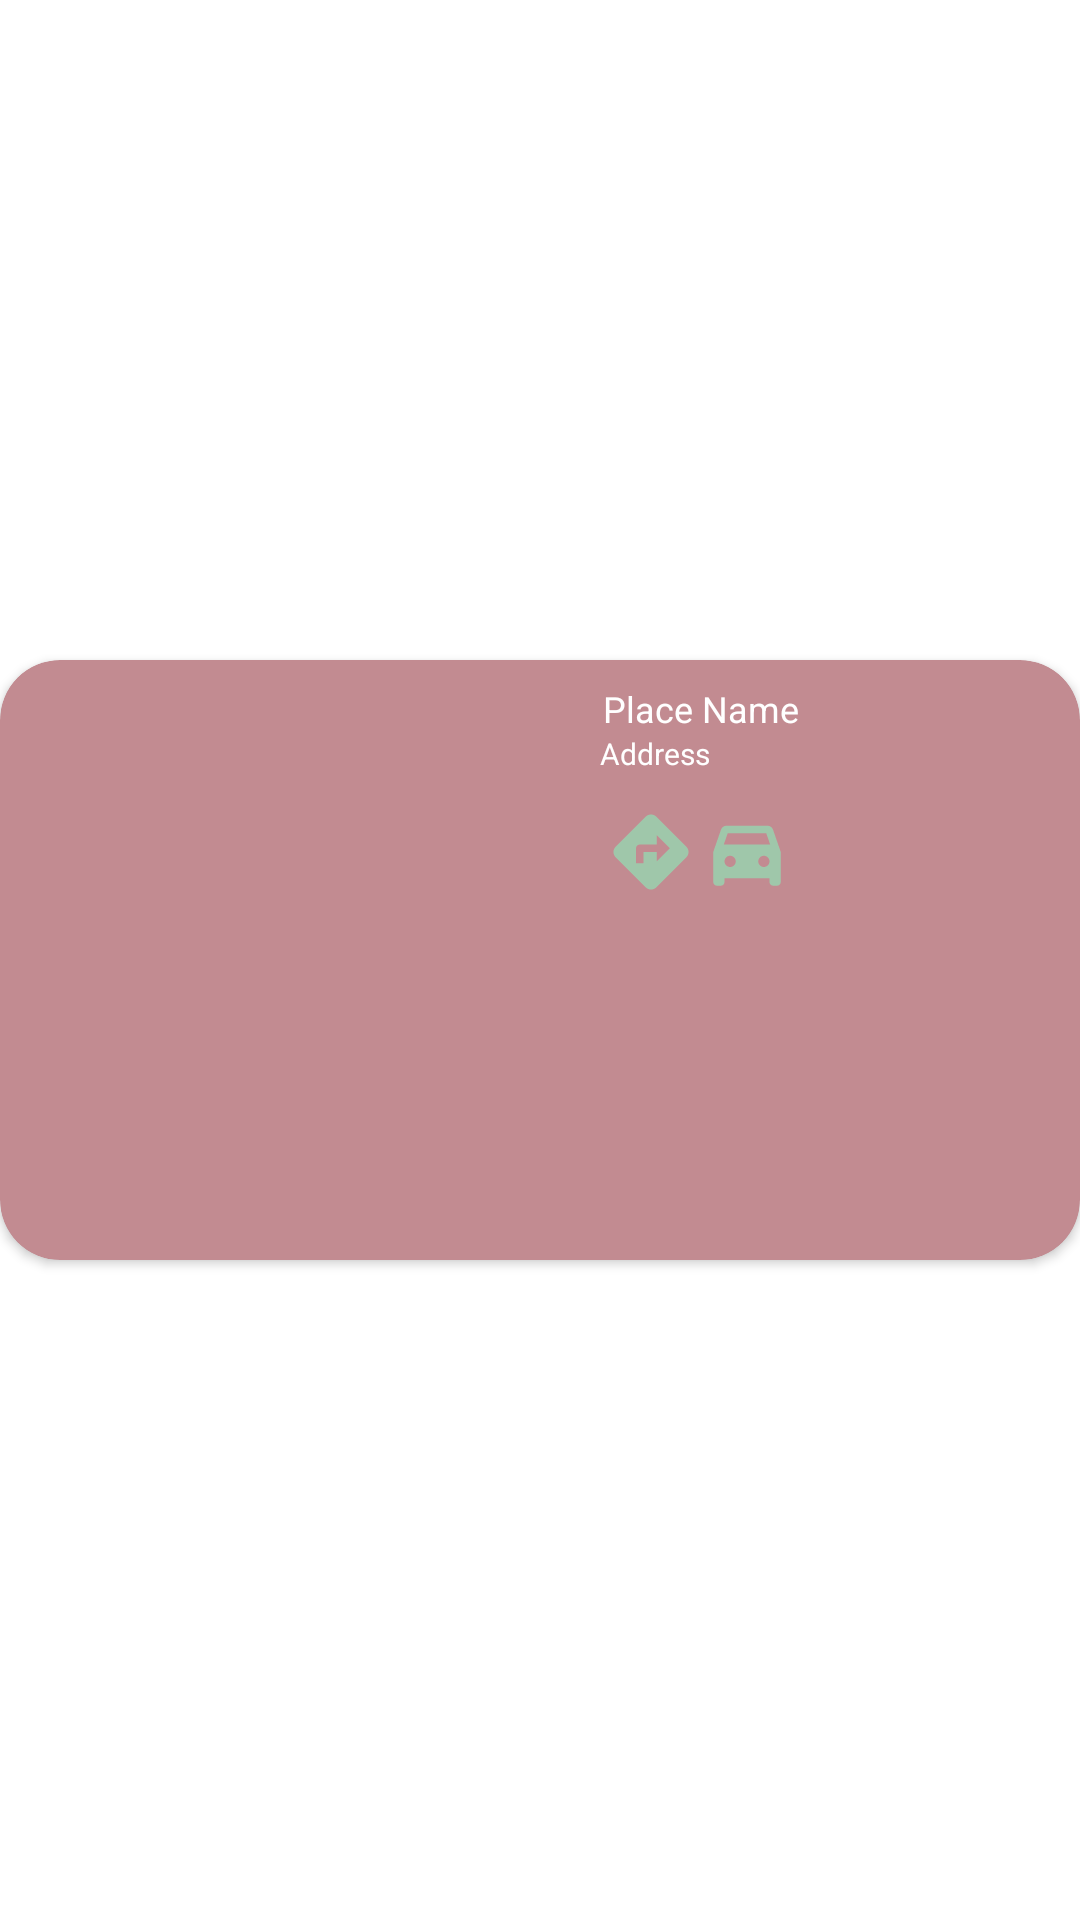

Icon click points for this 1080 × 1920 phone screenshot, format [x,y]:
directions: [651,852]
directions car: [747,856]
